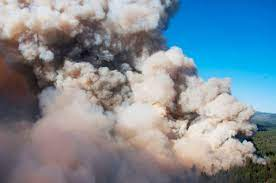smoke: (1, 2, 169, 182)
